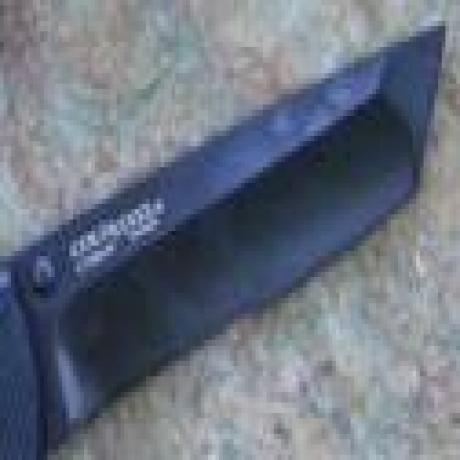weapon: (0, 21, 449, 460)
